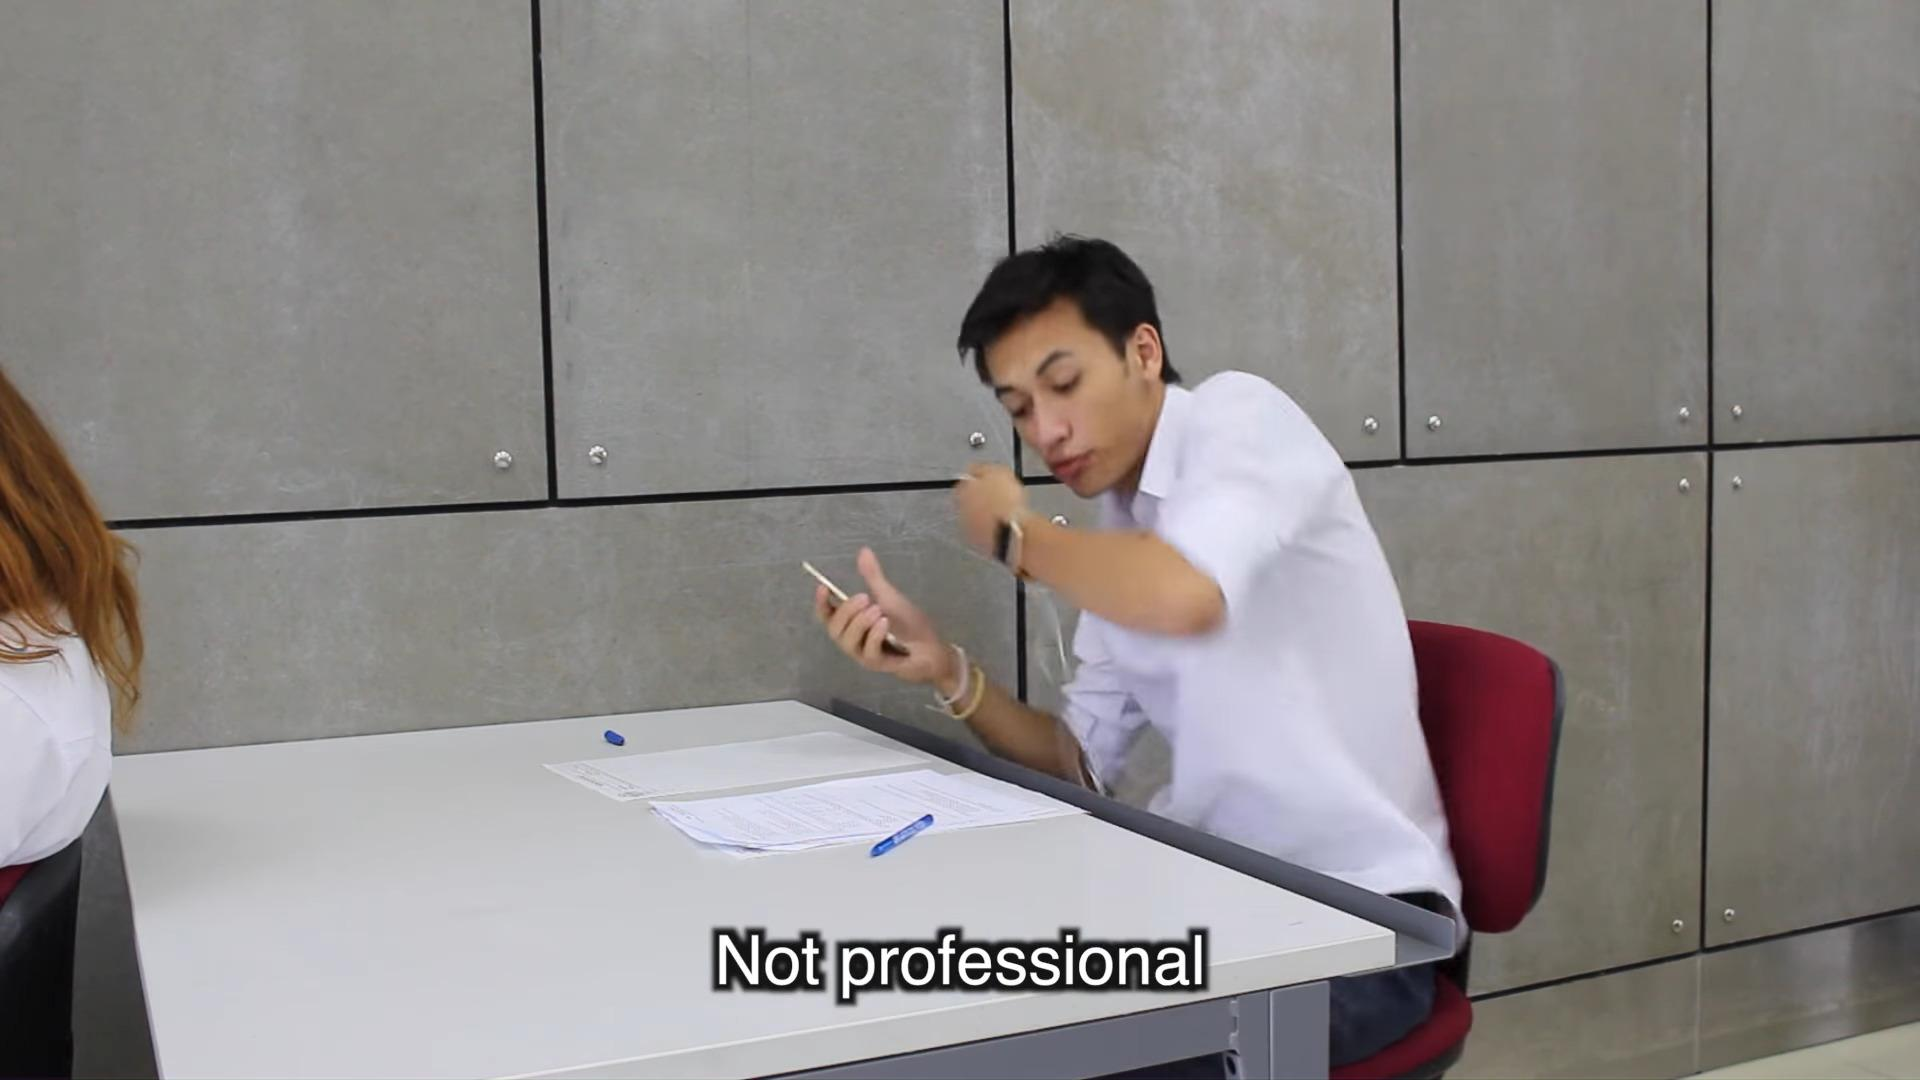cheating: (521, 214, 1470, 885)
